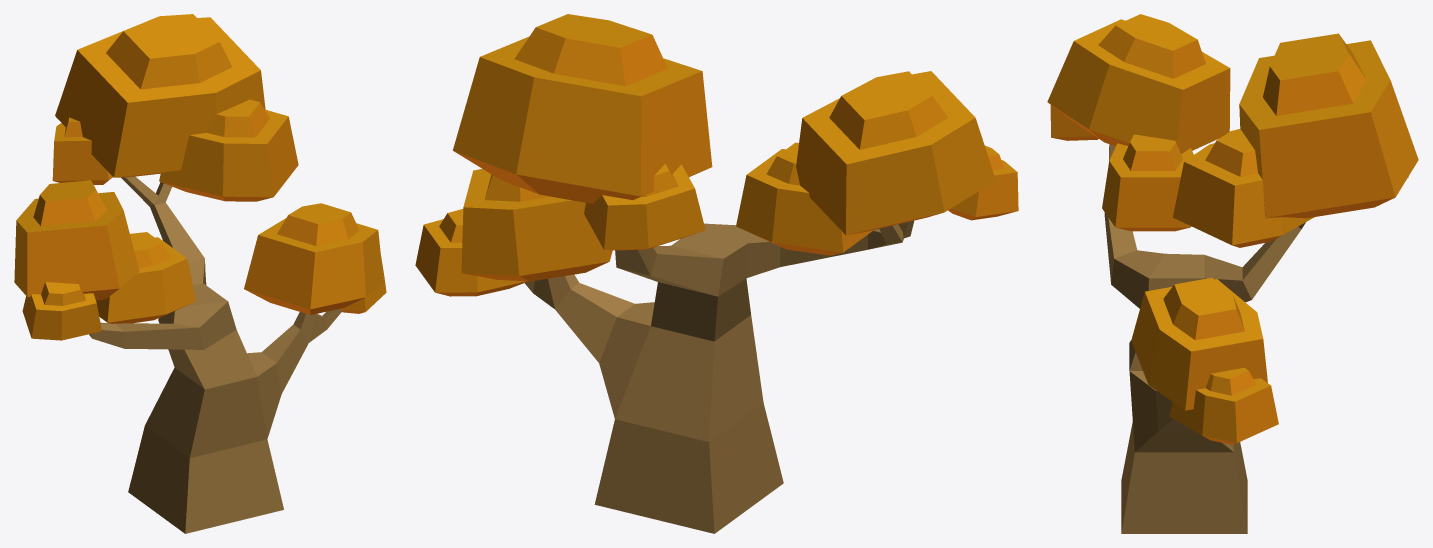
The model's file is ST_Env_Tree_Orange_02.fbx.
The picture shows the model from 3 angles, left to right: view 1: azimuth 30°, elevation 25°; view 2: azimuth 150°, elevation 25°; view 3: azimuth 270°, elevation 25°; orthographic projection. The views are drawn at different scales.
Visible parts, largest first — view 1: ST_Env_Tree_Orange_02; view 2: ST_Env_Tree_Orange_02; view 3: ST_Env_Tree_Orange_02.
Part boxes in pixels (<box>): ST_Env_Tree_Orange_02: <box>14,14,386,533</box>; ST_Env_Tree_Orange_02: <box>415,14,1018,533</box>; ST_Env_Tree_Orange_02: <box>1047,14,1418,533</box>.
Size of the model in its own units: 7.92 by 7.54 by 5.42.
